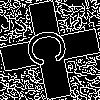C: (25, 25, 77, 69)
